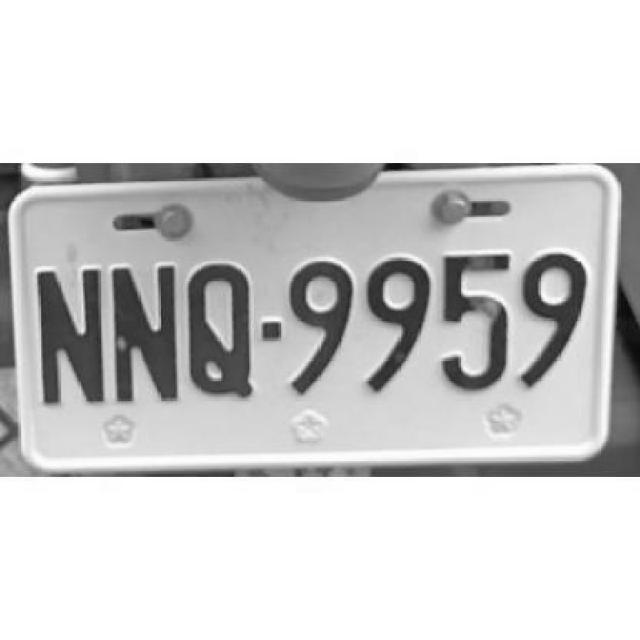-: (260, 319, 283, 343)
5: (437, 246, 514, 399)
9: (514, 243, 591, 391), (284, 252, 358, 403), (358, 251, 434, 397)
N: (31, 256, 108, 410), (105, 254, 182, 408)
Q: (181, 254, 257, 409)
